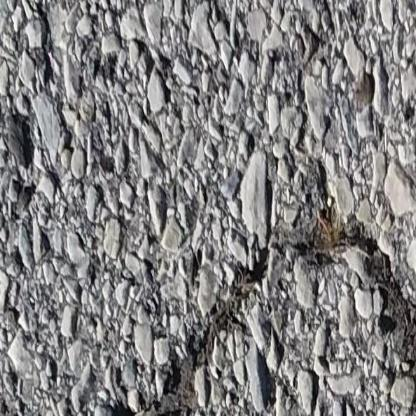Cracks: (107, 206, 416, 416)
